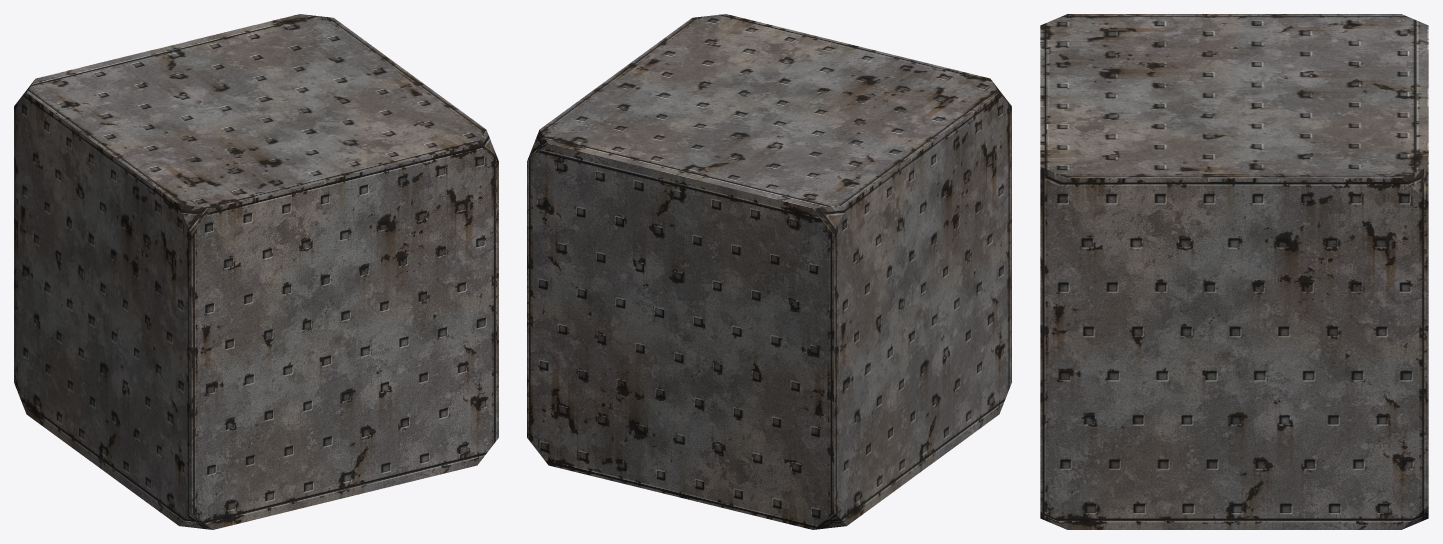
Rendered from crate.fbx.
3 views of the same model, side by side, from view 1: azimuth 30°, elevation 25°; view 2: azimuth 150°, elevation 25°; view 3: azimuth 270°, elevation 25° (orthographic). The views are drawn at different scales.
Visible parts, largest first — view 1: pCube1; view 2: pCube1; view 3: pCube1.
Part boxes in pixels (<box>): pCube1: <box>14,14,498,529</box>; pCube1: <box>527,14,1011,529</box>; pCube1: <box>1040,14,1428,529</box>.
Size of the model in its own units: 1.1 by 1.1 by 1.1.
